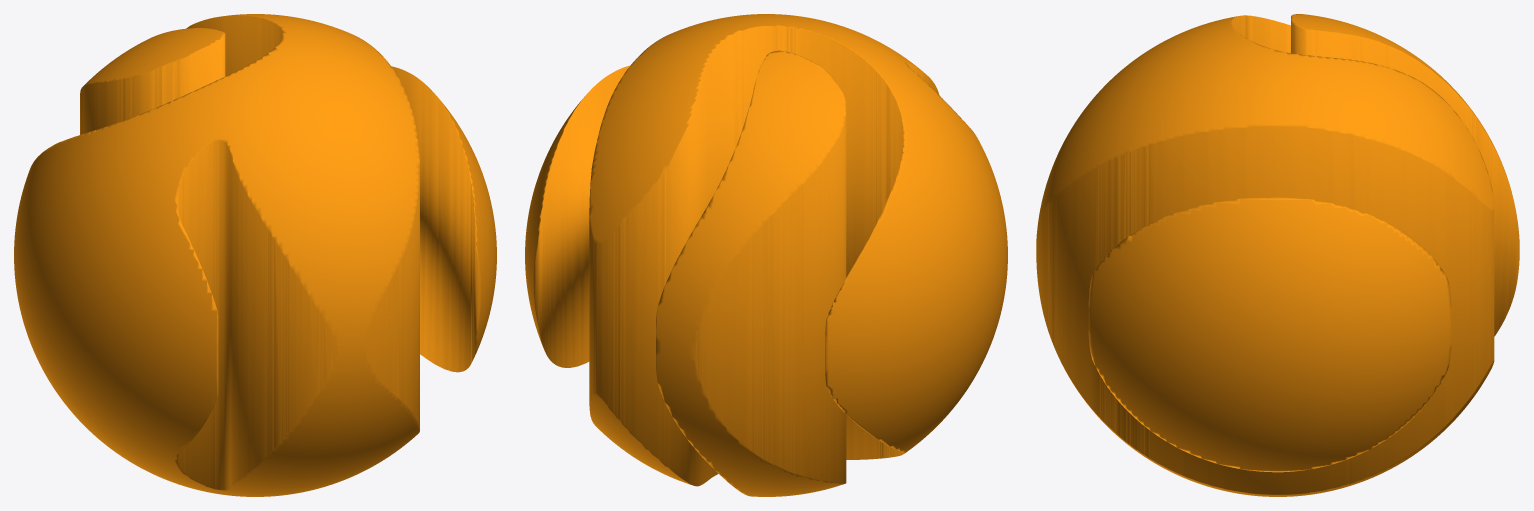
Rendered from sinhala_kw_globe_exact.obj.
The picture shows the model from 3 angles, left to right: view 1: azimuth 30°, elevation 25°; view 2: azimuth 150°, elevation 25°; view 3: azimuth 270°, elevation 25°; orthographic projection.
Parts seen in each view (by area): view 1: SinhalaKW_3D_Globe; view 2: SinhalaKW_3D_Globe; view 3: SinhalaKW_3D_Globe.
Part boxes in pixels (left/top/right/bottom): SinhalaKW_3D_Globe: left=14, top=14, right=496, bottom=496; SinhalaKW_3D_Globe: left=525, top=14, right=1007, bottom=496; SinhalaKW_3D_Globe: left=1036, top=14, right=1519, bottom=496.
Bounding box in the file's own units: 2 × 1.99 × 2.
